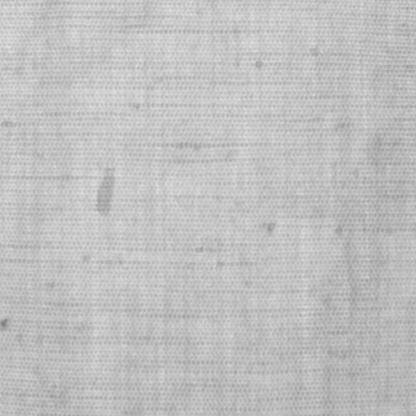oil spot: (96, 163, 116, 217)
